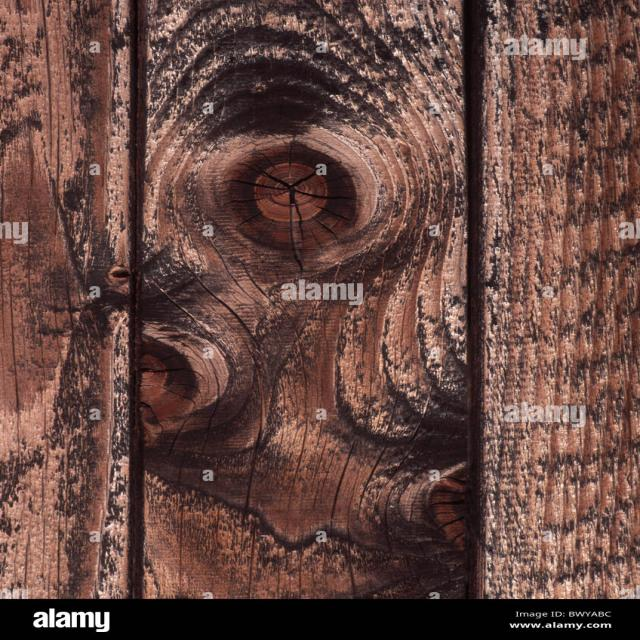have-wooden-eyes: (229, 146, 356, 250), (428, 477, 467, 549)
